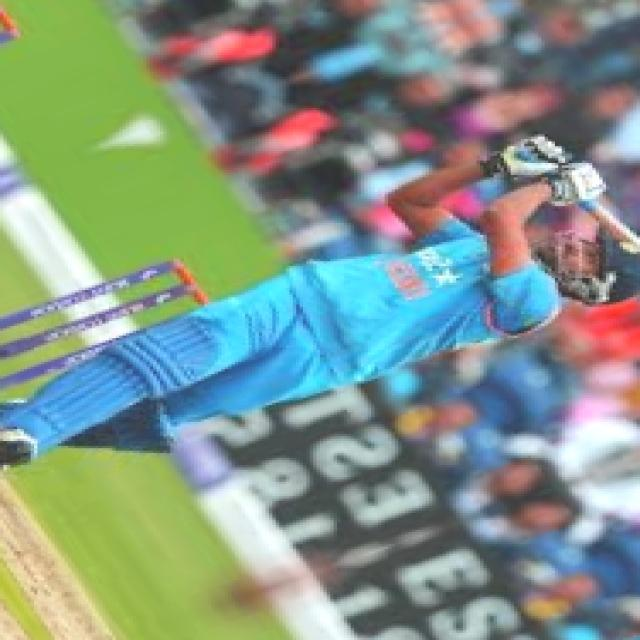toe: (616, 235, 640, 256)
